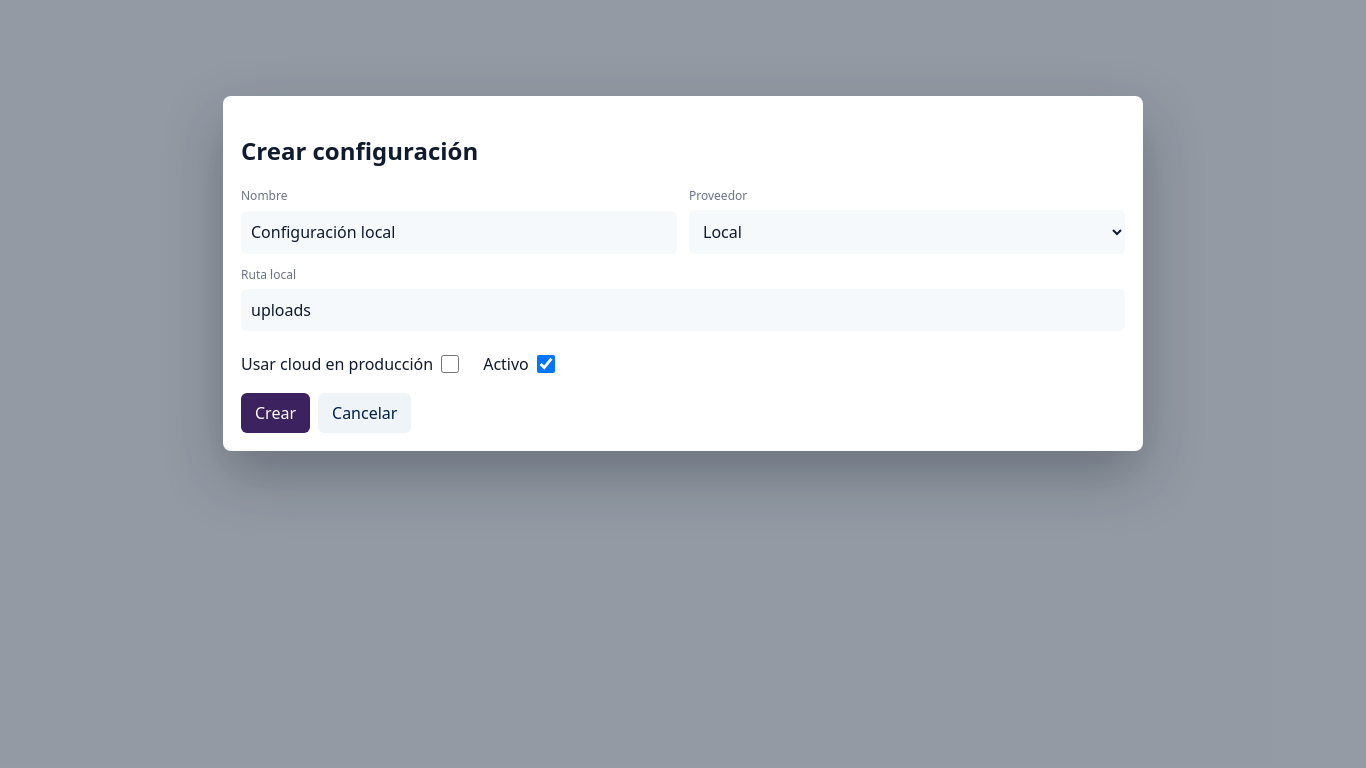
Scenario: storage components › muestra solo campos del proveedor y valida
Expected: the field labelled "Ruta local" is shown, 241,289 -> 1125,331
Select "Blob" in the dropdown labelled "Proveedor" at (907, 232), box 689,210 -> 1125,254
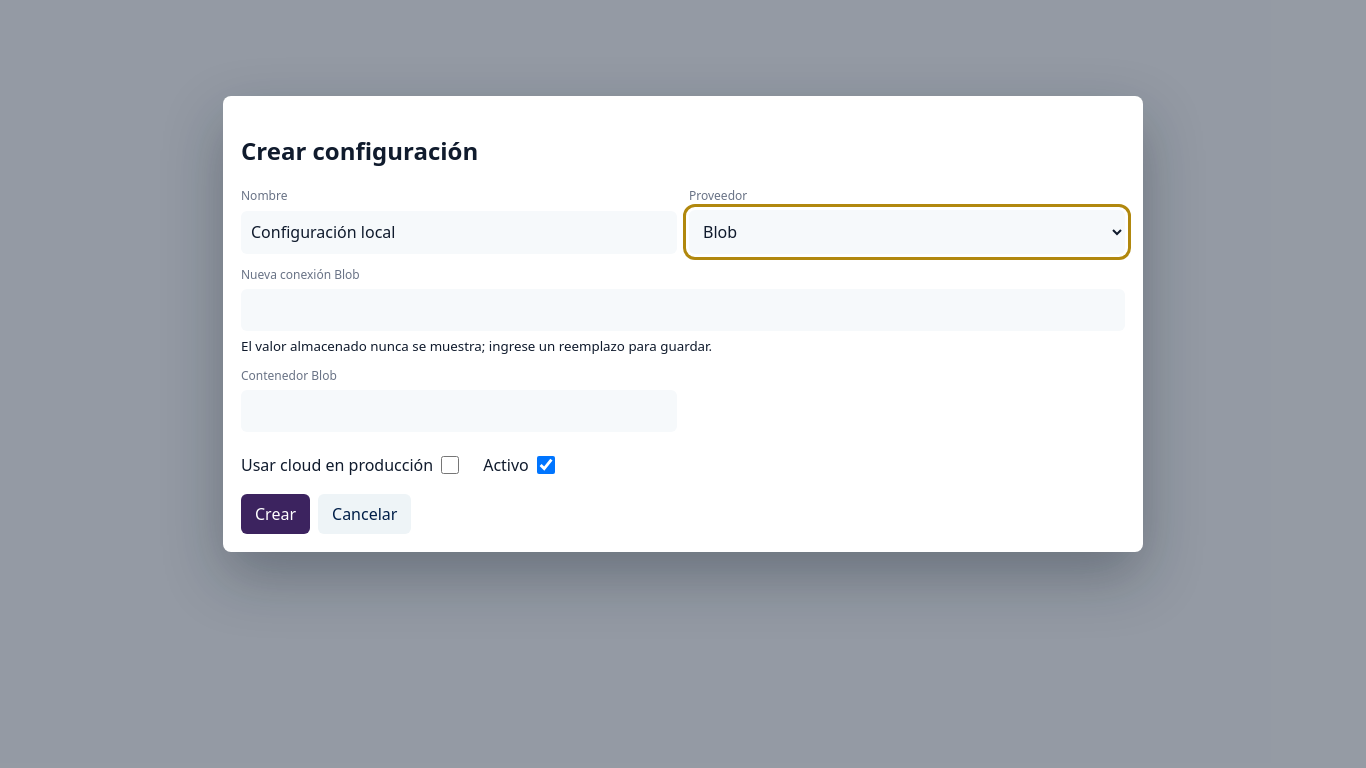
Expected: the password field labelled "Nueva conexión Blob" is empty, 241,289 -> 1125,331
Expected: the text labelled "Ruta local" is gone
Click the button "Crear".
click(276, 514)  # box 241,494 -> 310,534
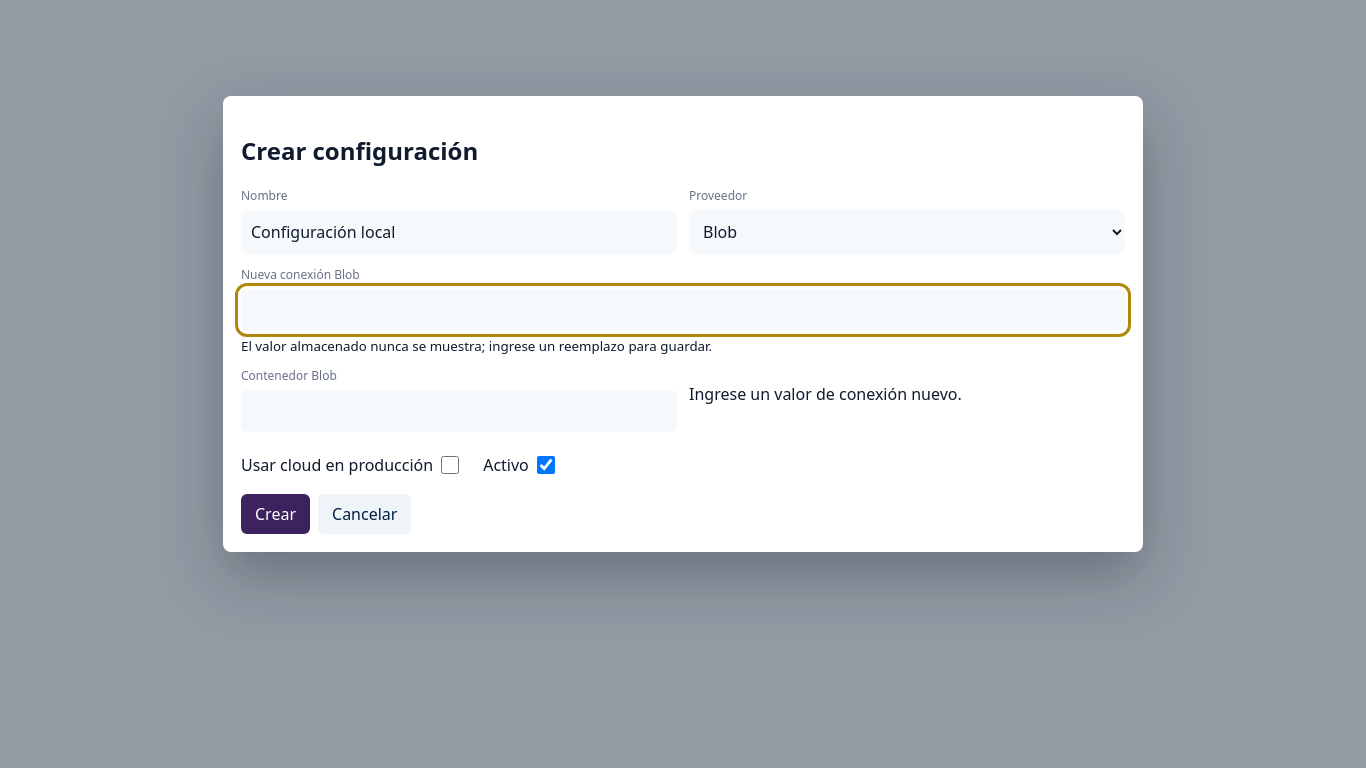
Expected: the message "Ingrese un valor de conexión nuevo." is shown, 689,383 -> 962,405
